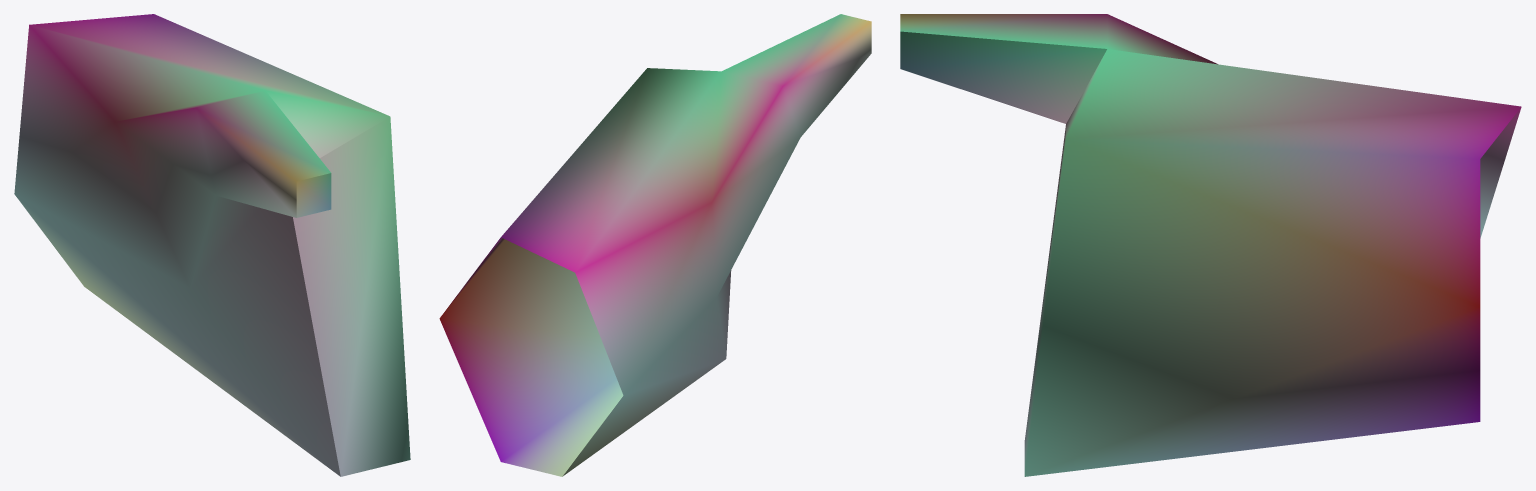
The picture shows the model from 3 angles, left to right: view 1: azimuth 30°, elevation 25°; view 2: azimuth 150°, elevation 25°; view 3: azimuth 270°, elevation 25°; orthographic projection. The views are drawn at different scales.
Visible parts, largest first — view 1: part; view 2: part; view 3: part.
Part boxes in pixels (<box>): part: <box>14,14,410,476</box>; part: <box>439,14,871,476</box>; part: <box>900,14,1521,476</box>.
Bounding box in the file's own units: 6 × 10 × 15.
